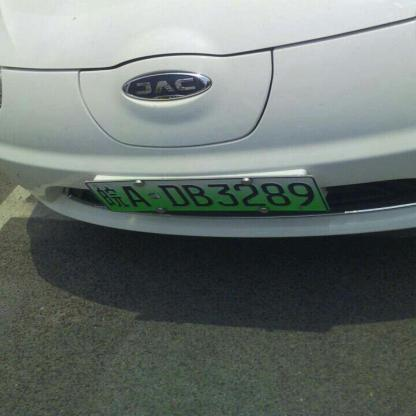lp: (84, 177, 330, 211)
